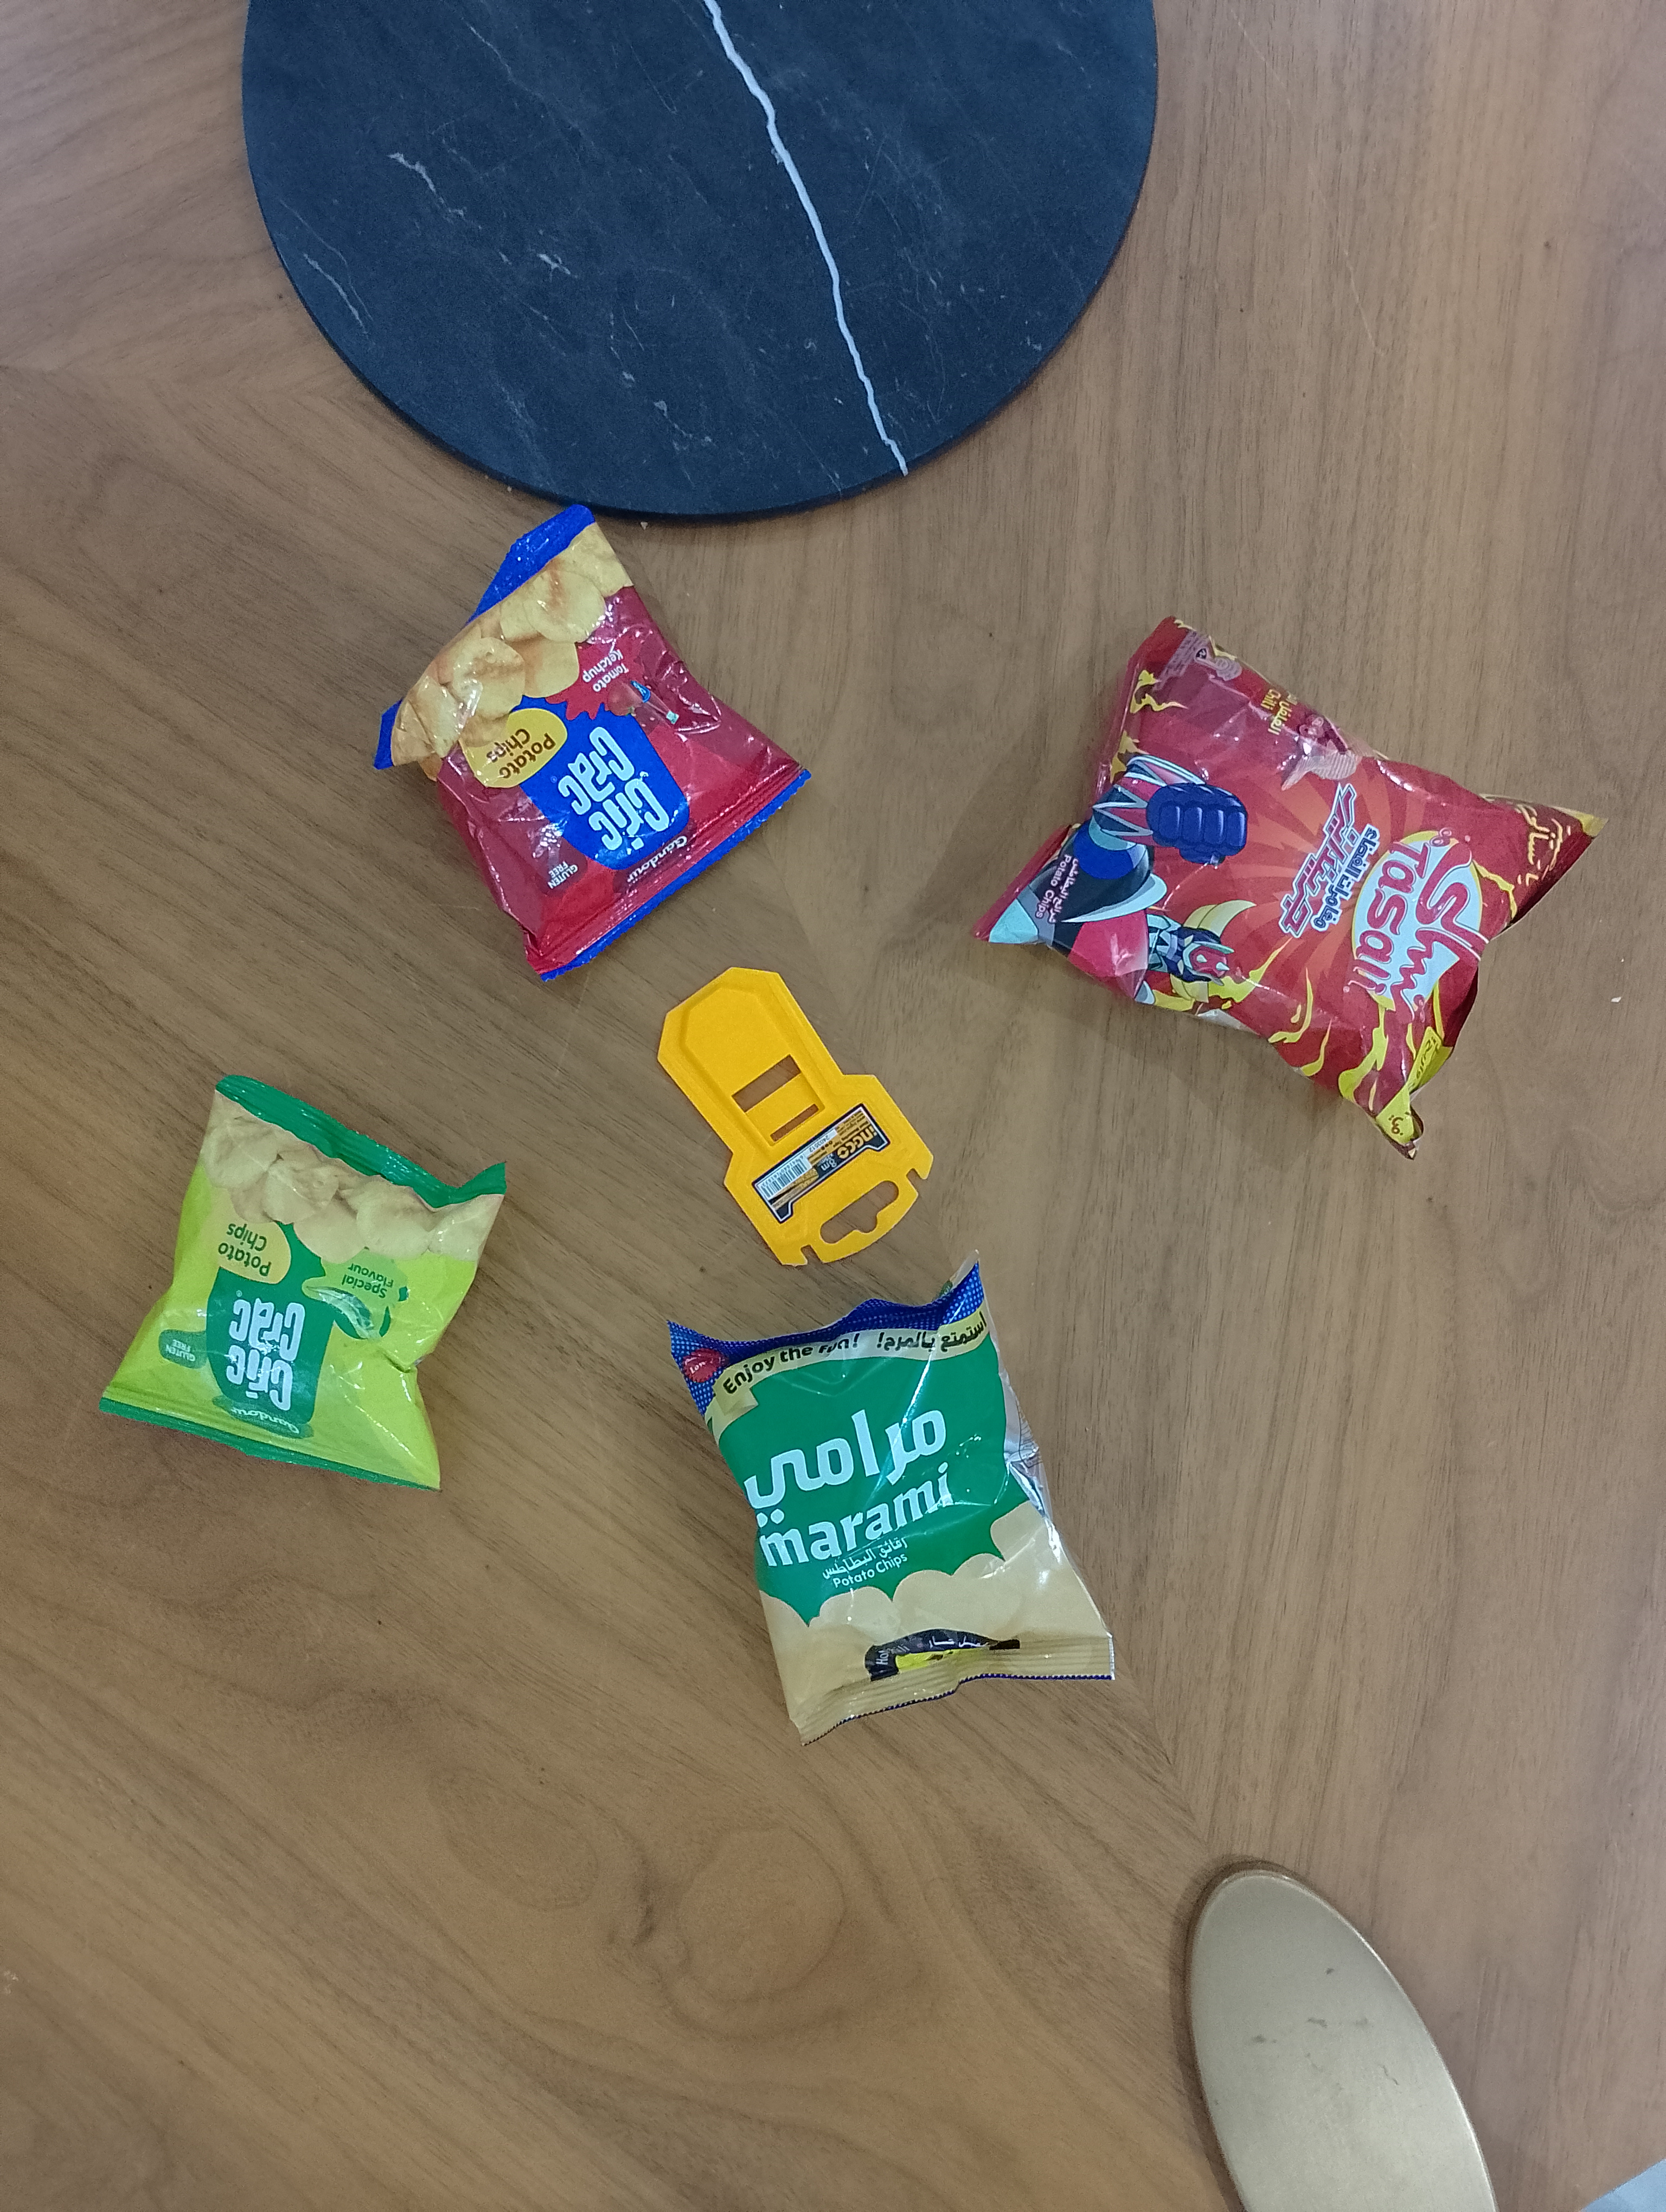cric_crac_special_flavour: (96, 1072, 509, 1493)
cric_crac_tomato_ketchup: (369, 500, 814, 984)
marami_hot_chili: (663, 1249, 1116, 1749)
tasali_hot_chili: (968, 616, 1610, 1159)
